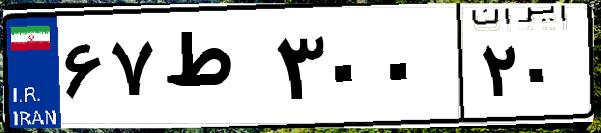0: (385, 28, 445, 110), (330, 28, 385, 110), (525, 38, 570, 115)
2: (475, 38, 525, 113)
3: (270, 28, 330, 110)
6: (57, 26, 110, 100)
7: (110, 28, 158, 98)
ط: (158, 20, 270, 120)
